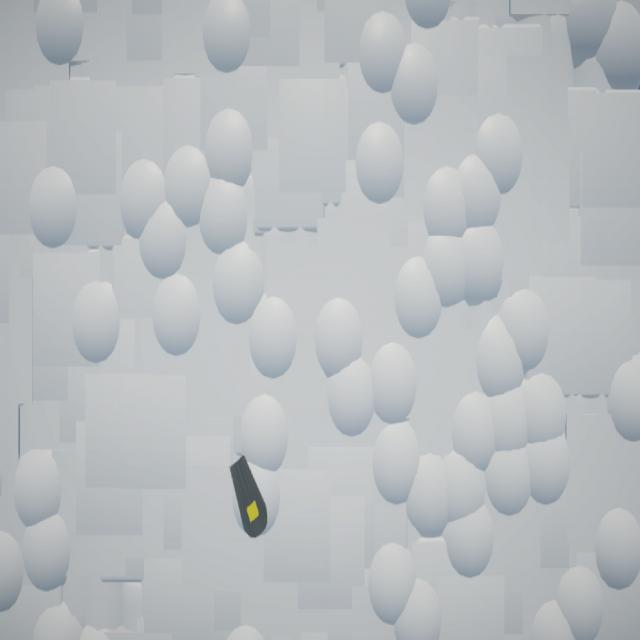handle_folk: (231, 456, 269, 540)
